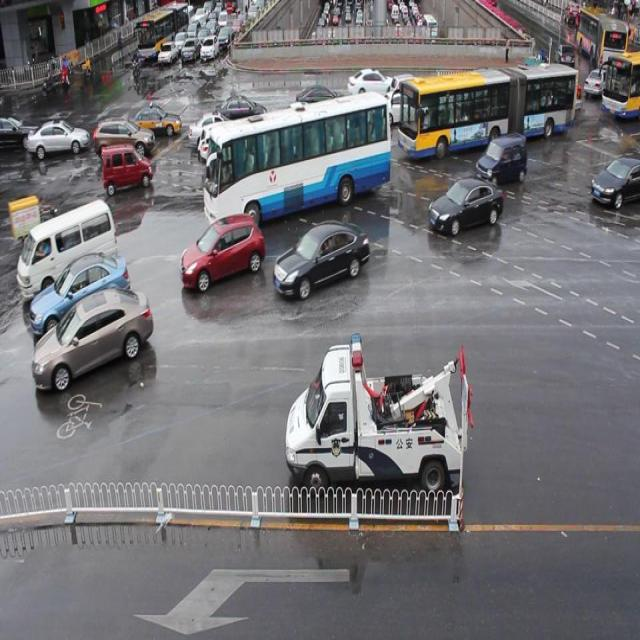bus: (286, 333, 474, 494)
car: (33, 290, 152, 389), (30, 254, 130, 336), (275, 222, 369, 298), (181, 214, 264, 291), (428, 179, 503, 232), (475, 134, 526, 186), (101, 142, 154, 192), (198, 121, 258, 165), (592, 155, 640, 210), (95, 117, 155, 158), (29, 119, 92, 155), (294, 102, 350, 140), (275, 101, 325, 143), (377, 89, 427, 127), (130, 106, 182, 138), (190, 110, 236, 146), (348, 66, 394, 102), (389, 74, 433, 110), (218, 96, 267, 128), (294, 86, 346, 114), (477, 66, 516, 102), (461, 79, 494, 115), (488, 74, 520, 105), (520, 65, 550, 96)
truck: (18, 203, 119, 296)
van: (204, 99, 389, 220), (396, 65, 574, 148)
